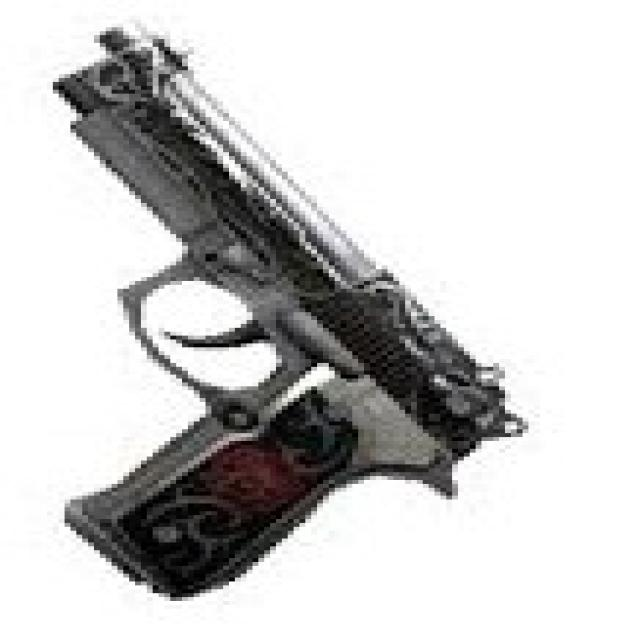pistol: (39, 19, 542, 609)
